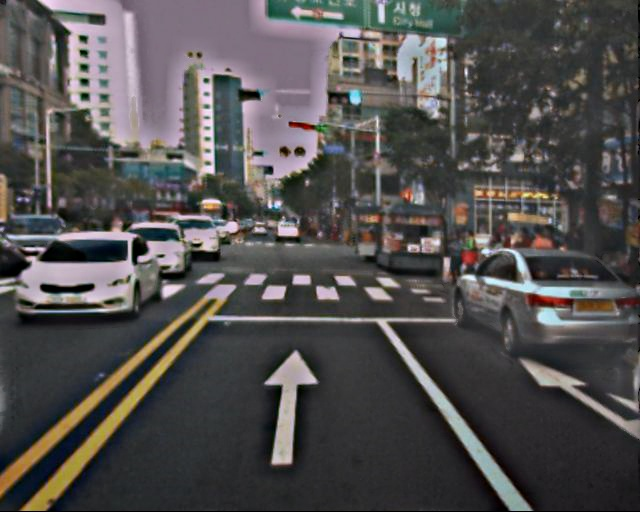person: (490, 220, 592, 254), (458, 229, 482, 288), (444, 230, 466, 284)
